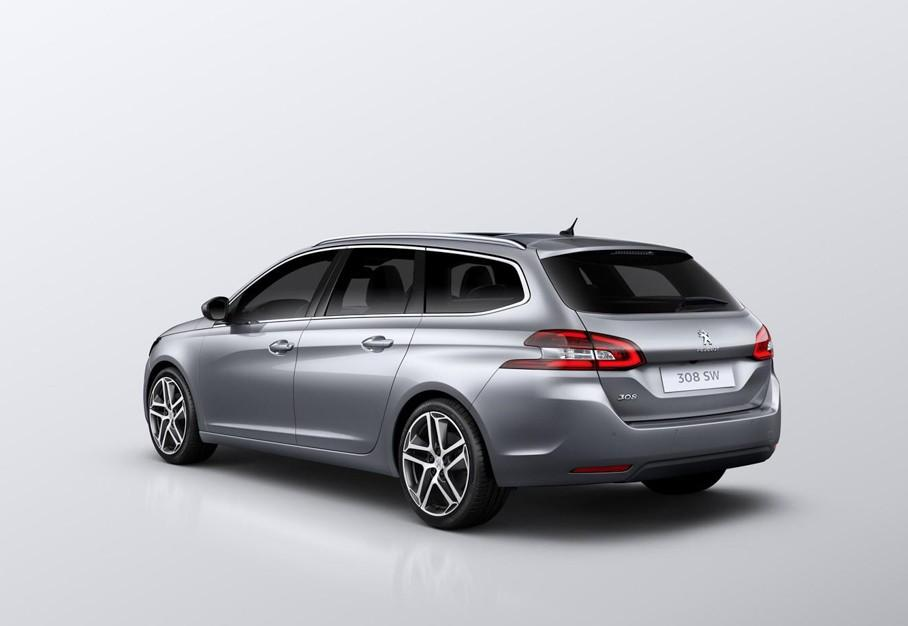Wagon: (143, 231, 782, 532)
